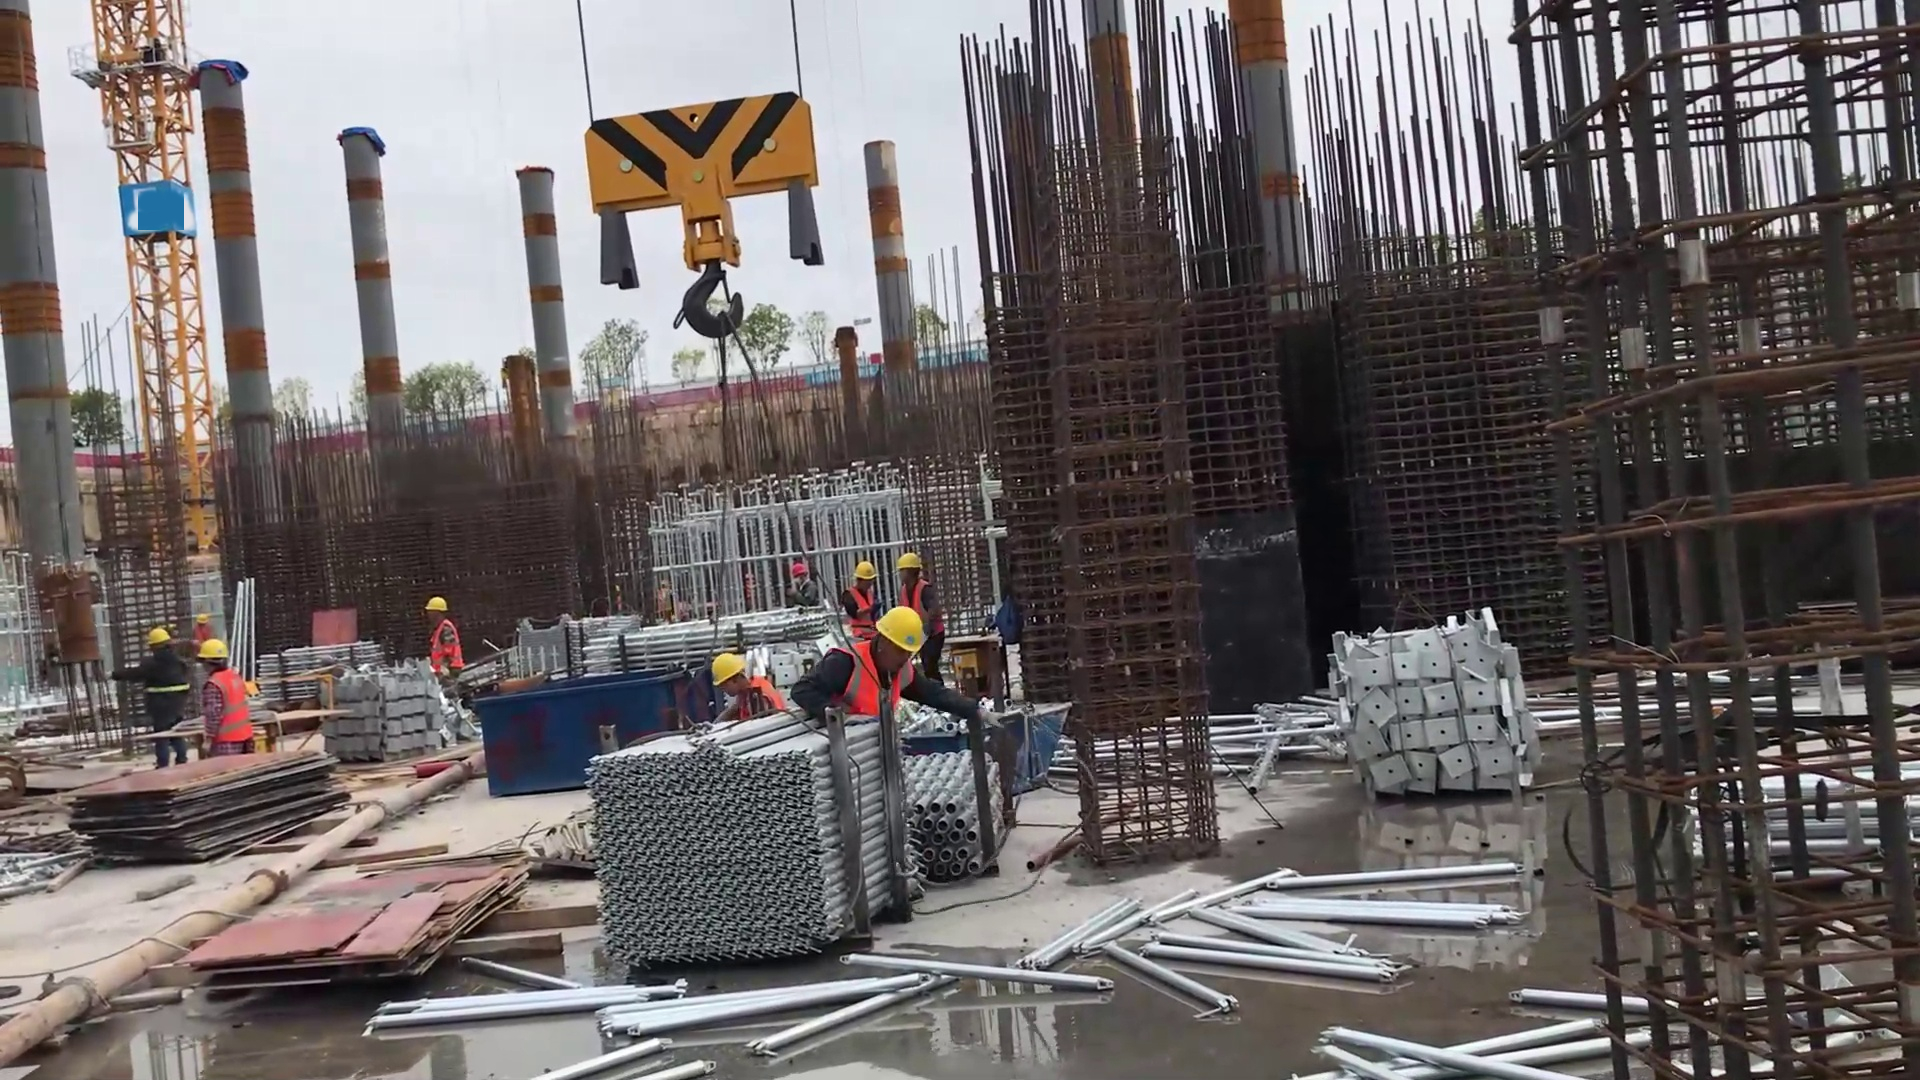board: (151, 845, 559, 969), (78, 749, 355, 856)
helmet: (866, 592, 933, 668), (702, 639, 769, 683), (844, 554, 890, 592), (142, 619, 190, 656), (192, 633, 229, 672), (890, 551, 923, 573), (436, 585, 459, 614)
hook: (578, 89, 838, 341)
hopper: (874, 695, 1088, 799)
person: (801, 589, 940, 726), (116, 624, 193, 774), (698, 633, 802, 731), (192, 630, 263, 753), (409, 591, 467, 692)
scaffold: (579, 707, 935, 987)
vest: (820, 618, 911, 699), (208, 676, 263, 749), (429, 612, 469, 668)
